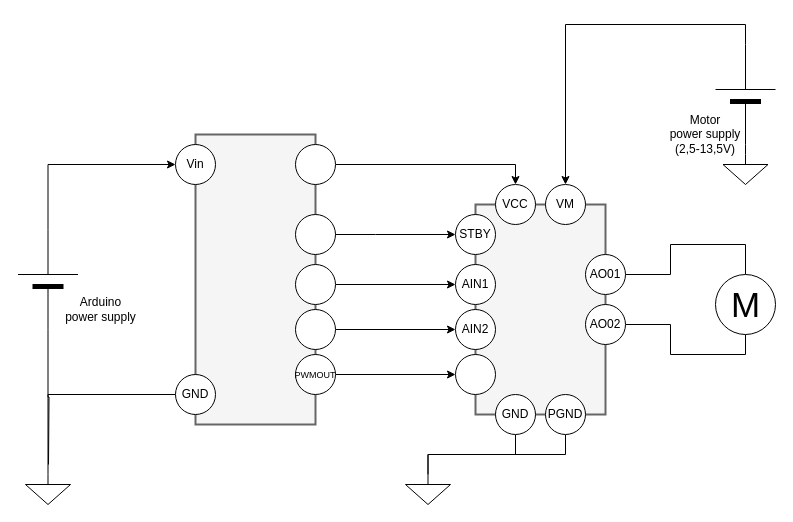
Some shapes in this 793 by 522 pixel diagram are drawn without their labels. The box of each missing label's shape, as (x1, y1, x2, y2) in pixels:
+3V3: (294, 144, 336, 184)
Arduino: (194, 133, 316, 425)
DOUT1: (294, 264, 336, 304)
DOUT2: (294, 308, 336, 350)
PWMA: (454, 354, 496, 394)
SBYOUT: (294, 214, 336, 254)
Toshiba TB6612FNG: (474, 203, 606, 415)
